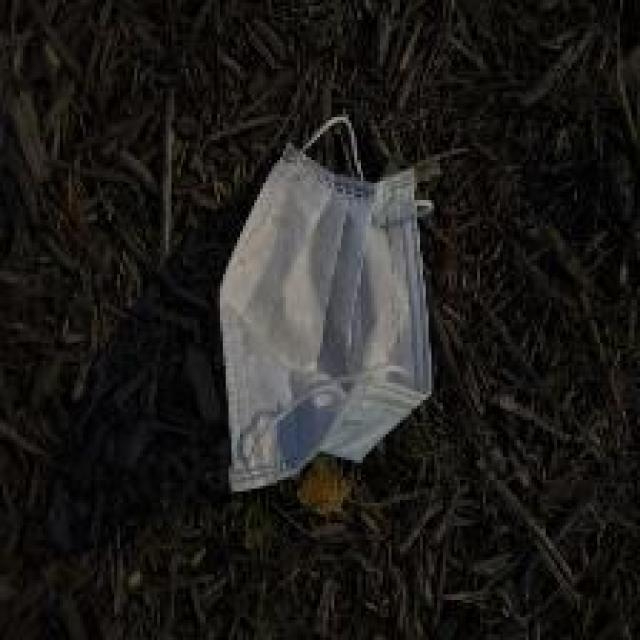Mask: (222, 130, 440, 508)
